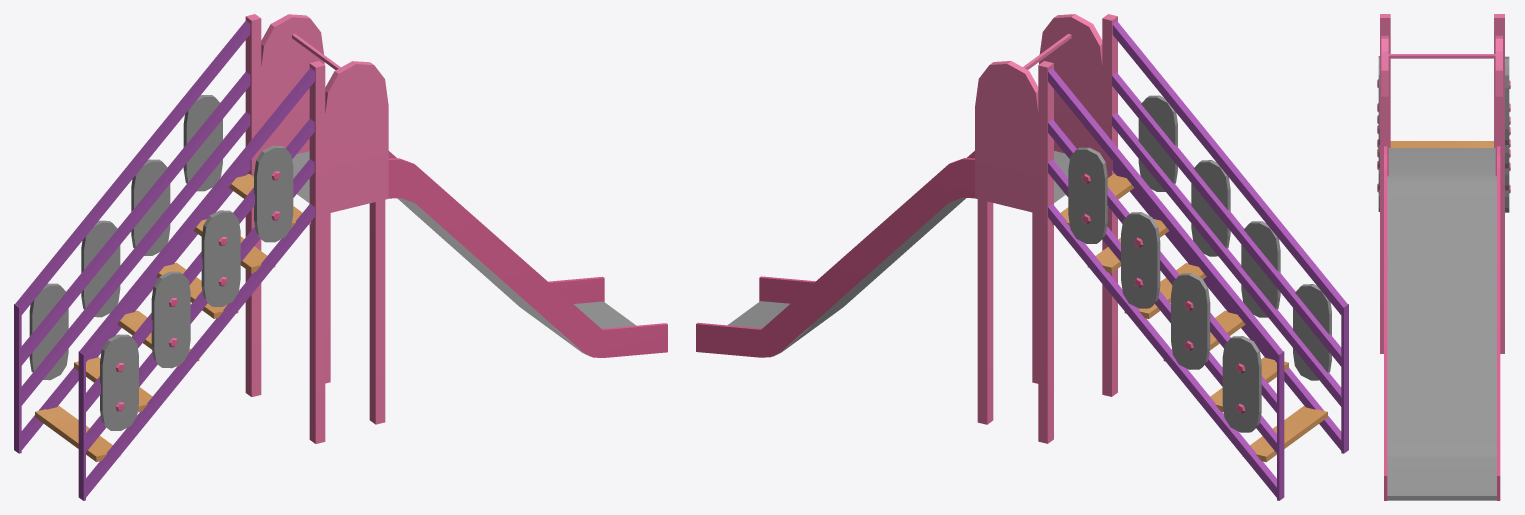
File: Playground.fbx
3 renders of one model, left to right at view 1: azimuth 30°, elevation 25°; view 2: azimuth 150°, elevation 25°; view 3: azimuth 270°, elevation 25°, orthographic. The views are drawn at different scales.
Visible parts, largest first — view 1: SM_Playground_05__1_; view 2: SM_Playground_05__1_; view 3: SM_Playground_05__1_.
Part boxes in pixels (x1,y1,x2,y2): SM_Playground_05__1_: [14, 14, 667, 500]; SM_Playground_05__1_: [696, 14, 1348, 500]; SM_Playground_05__1_: [1377, 14, 1510, 500].
Size of the model in its own units: 13357 by 8210 by 2956.
